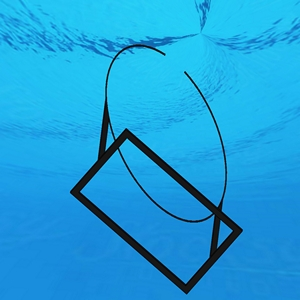circle: (69, 44, 243, 296)
